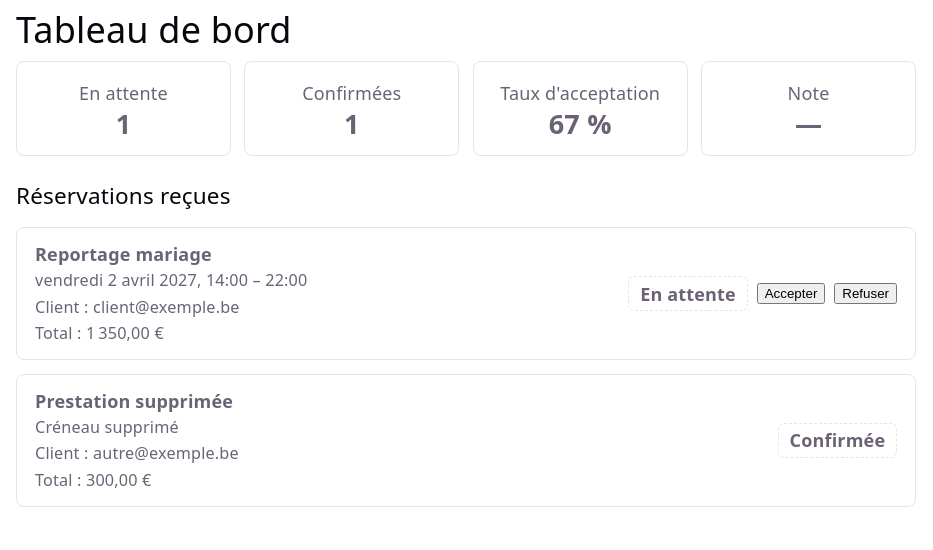
TableauDeBord (#32, wireframe 08) › affiche l’erreur du backend (409) et recharge la liste
Click the button "Accepter" at x=791, y=294, box [757,283,825,304]
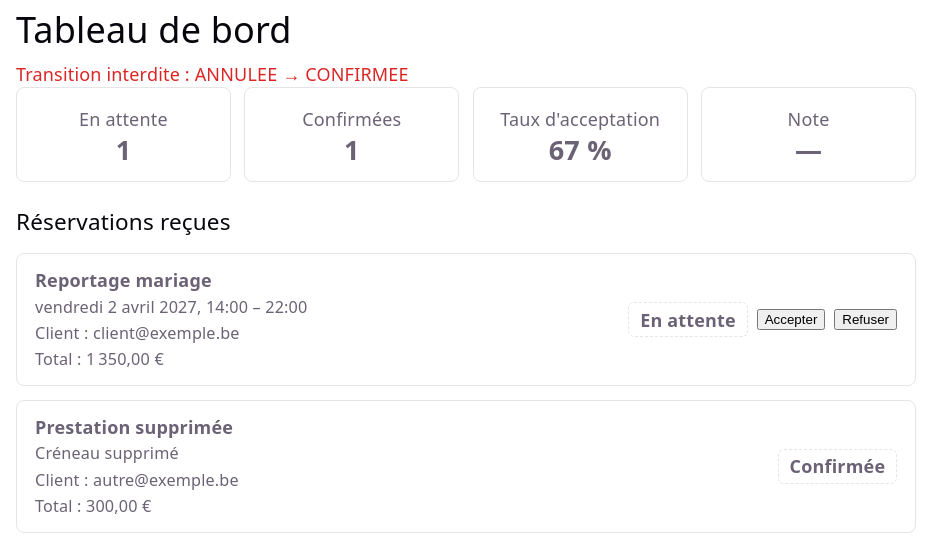
expect the message reads "Transition interdite : ANNULEE → CONFIRMEE": met, box [16,62,409,86]
